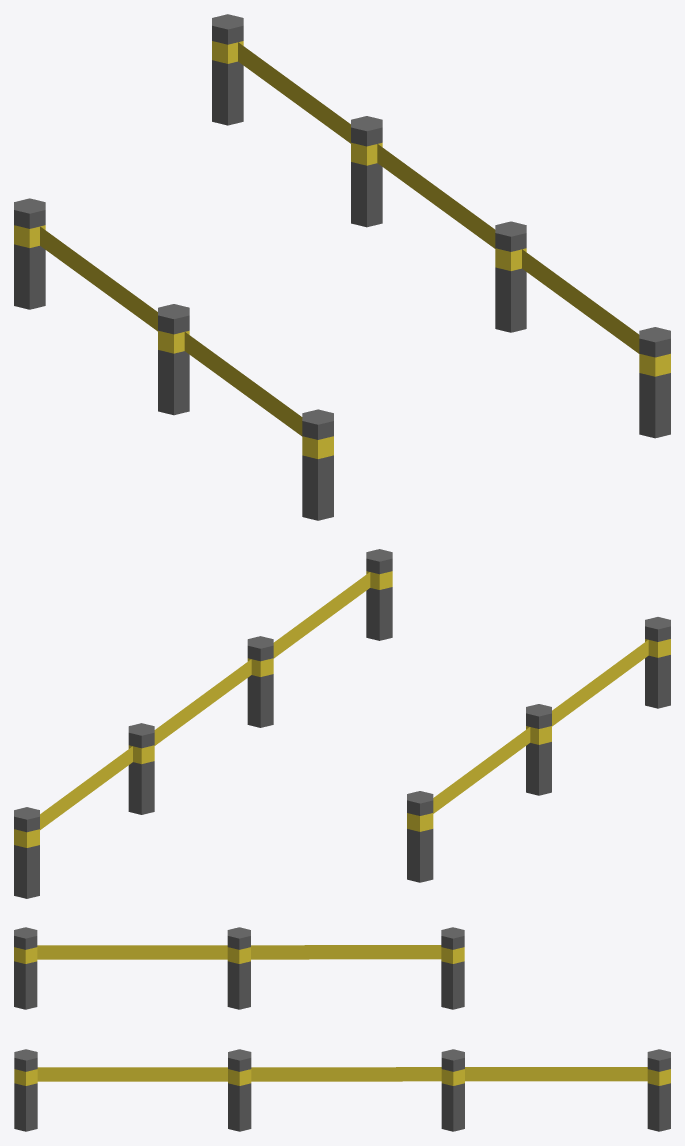
Rendered from shoufei01.FBX.
The picture shows the model from 3 angles, top to bottom: view 1: azimuth 30°, elevation 25°; view 2: azimuth 150°, elevation 25°; view 3: azimuth 270°, elevation 25°; orthographic projection. The views are drawn at different scales.
Parts seen in each view (by area): view 1: ludeng_006; view 2: ludeng_006; view 3: ludeng_006.
Boxes of the visible parts, x1,y1,x2,y2 form: ludeng_006: [14, 14, 670, 520]; ludeng_006: [14, 549, 670, 898]; ludeng_006: [14, 927, 670, 1131].
Bounding box in the file's own units: 531 × 132 × 1105.
